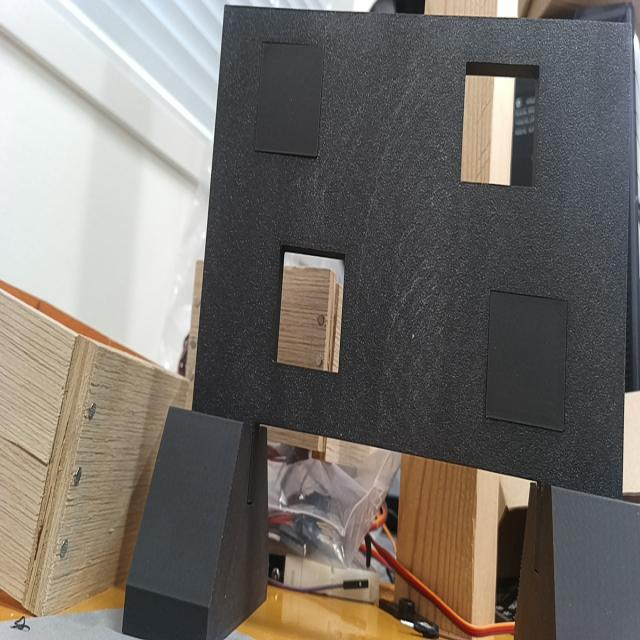Obstacle: (194, 7, 634, 498), (460, 62, 539, 188), (275, 247, 345, 372)
Wall: (194, 7, 634, 498)
